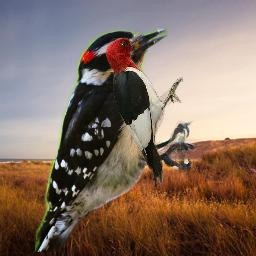Woodpecker: (35, 28, 195, 252), (104, 32, 183, 187)
